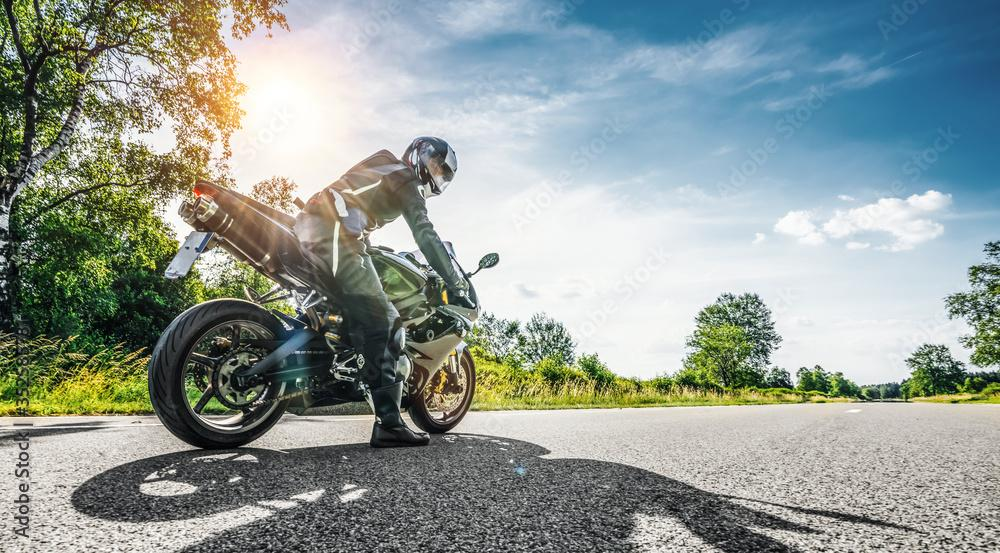helmet: (400, 135, 458, 199)
